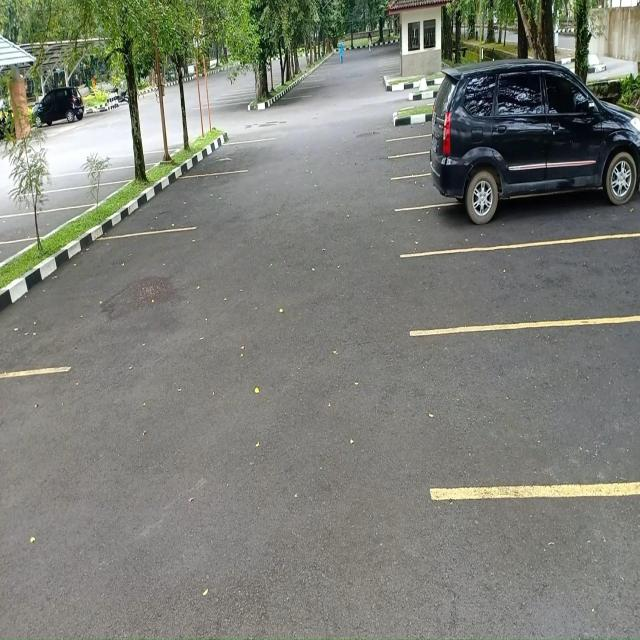empty: (428, 318, 638, 506), (435, 243, 640, 330), (60, 232, 146, 372), (149, 172, 247, 230), (0, 208, 76, 243), (30, 185, 114, 208), (205, 142, 261, 174), (75, 164, 135, 187)
occupied: (432, 128, 640, 246)
